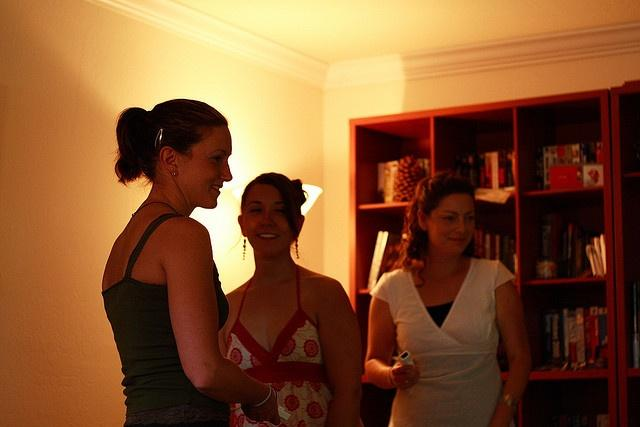Rak: (348, 86, 616, 426)
